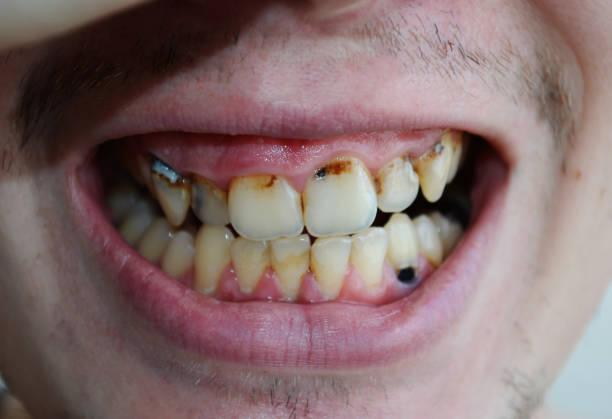Calculus: (198, 235, 231, 296), (274, 253, 311, 306), (231, 246, 269, 288)
Caries: (182, 172, 232, 234), (149, 160, 191, 204), (311, 157, 361, 188), (388, 259, 427, 293), (419, 141, 455, 167)
